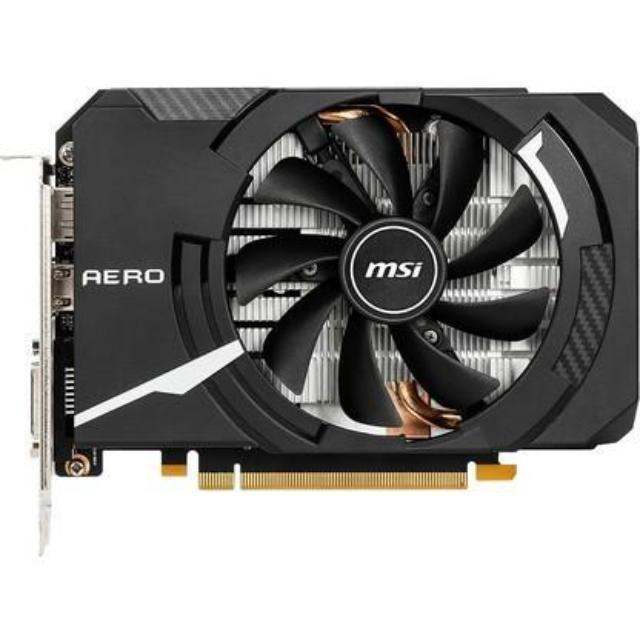GPU: (38, 66, 640, 502)
